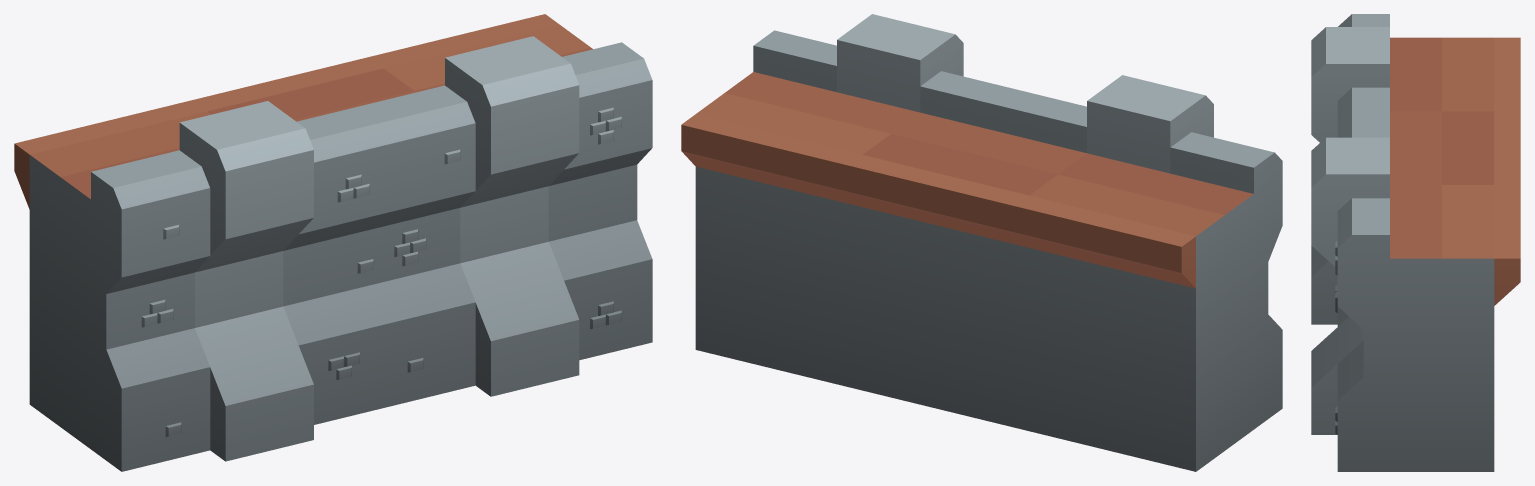
Rendered from wall.glb.
The picture shows the model from 3 angles, left to right: view 1: azimuth 30°, elevation 25°; view 2: azimuth 150°, elevation 25°; view 3: azimuth 270°, elevation 25°; orthographic projection. The views are drawn at different scales.
Visible parts, largest first — view 1: wall; view 2: wall; view 3: wall.
Boxes of the visible parts, left/top/right/bottom form: wall: left=14, top=14, right=652, bottom=471; wall: left=681, top=14, right=1282, bottom=471; wall: left=1311, top=14, right=1520, bottom=471.
Size of the model in its own units: 1 by 0.55 by 0.4.
Materials: 1 (1 with a texture image).
